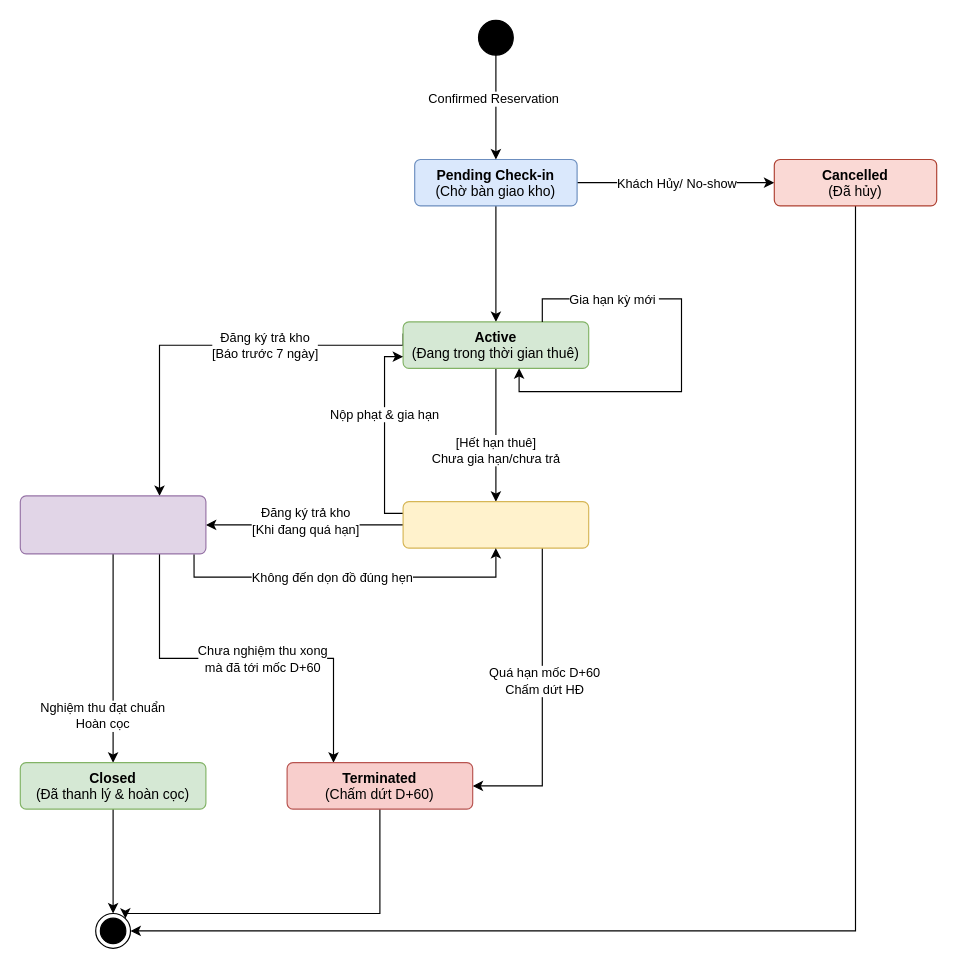
This 957x969 diagram has some shape labels left out. Here are the shapes that lost their labels. From the top down, the centre of each, then its label:
At point (112, 524): "Pending Return (Chờ nghiệm thu trả kho)".
At point (495, 524): "Overdue (Quá hạn nợ)".
